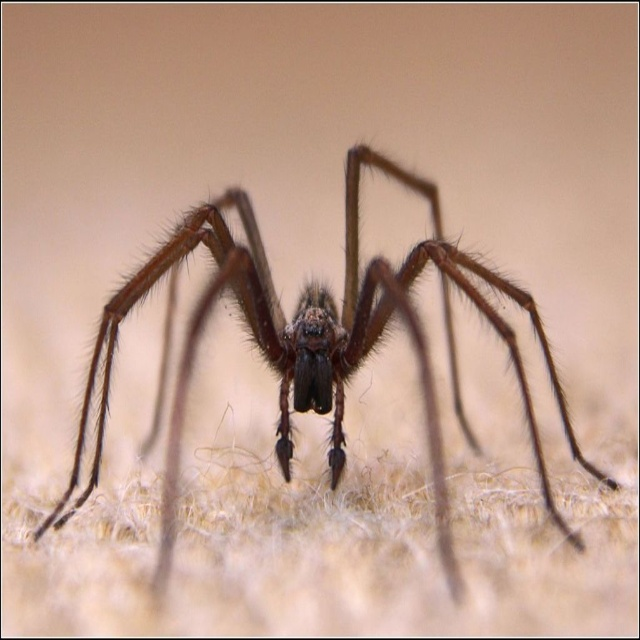Spider: (32, 132, 622, 611)
